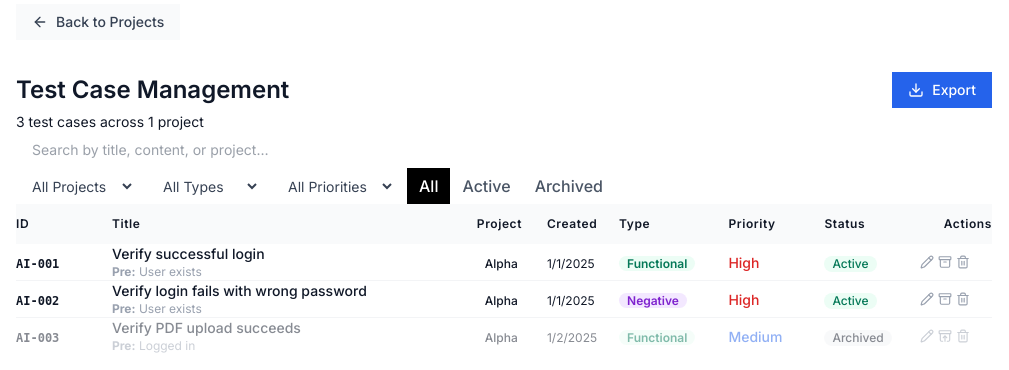
Scenario: TestCaseManagementView – dropdown filters › filtering by Negative type hides Functional test cases
The image size is (1009, 370).
expect the text "Verify successful login" is shown: met, box [112,245,265,262]
Select "Negative" in the dropdown named "filter by type". click: (204, 186)
box: [147,168,260,204]
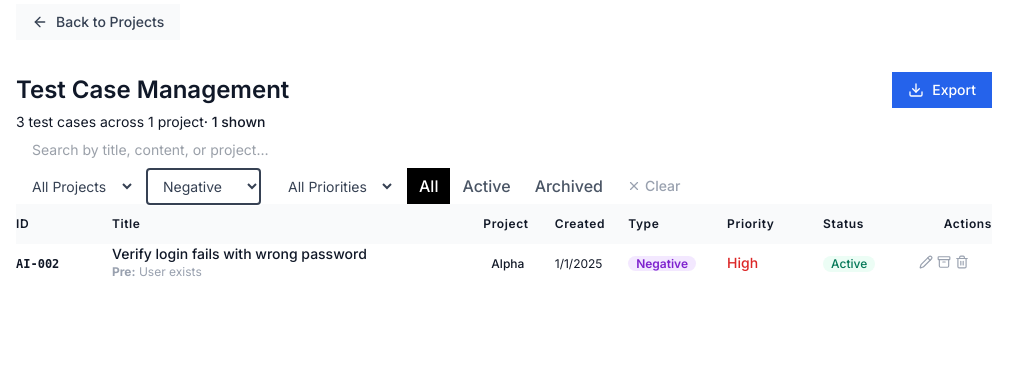
expect the text "Verify login fails with wrong password" is shown: met, box [112,245,367,262]
expect the text "Verify successful login" is gone: met
